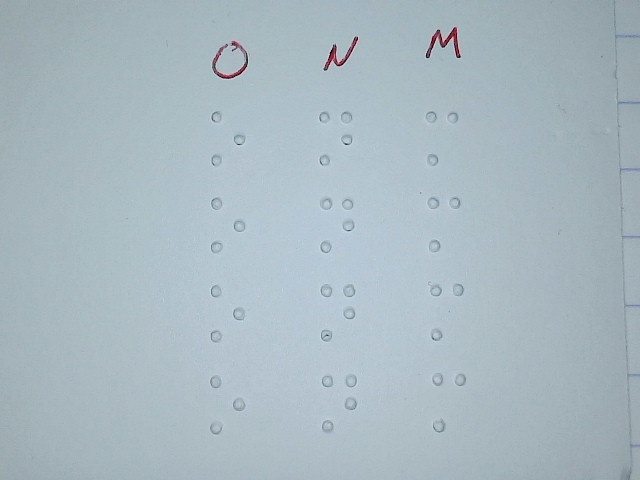M: (421, 106, 462, 168), (423, 194, 464, 256), (425, 280, 466, 342), (428, 371, 469, 433)
N: (315, 106, 356, 168), (317, 193, 358, 255), (317, 280, 358, 342), (319, 371, 360, 433)
O: (208, 107, 249, 169), (207, 194, 248, 256), (208, 282, 249, 344), (206, 373, 247, 435)
